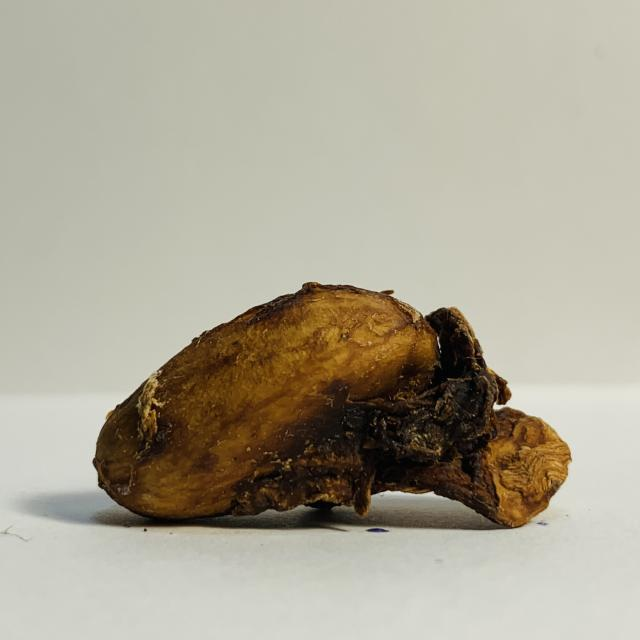Agglomerated_cocoabeans: (0, 235, 610, 605)
